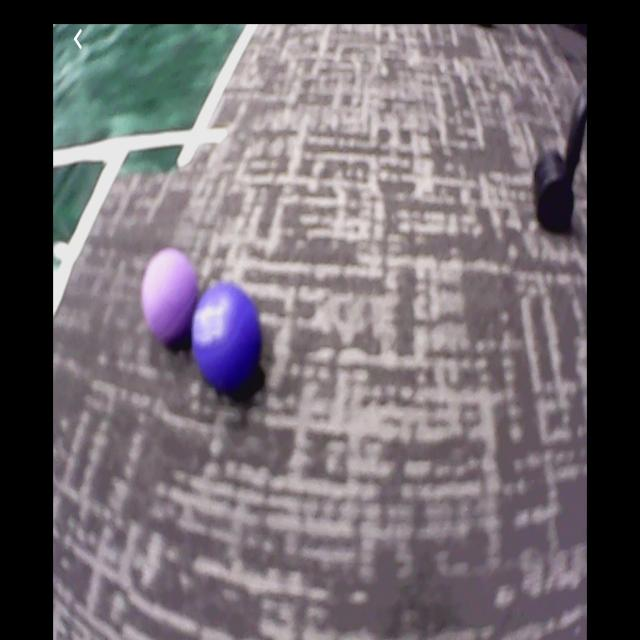ball: (194, 284, 266, 395), (144, 251, 197, 344)
